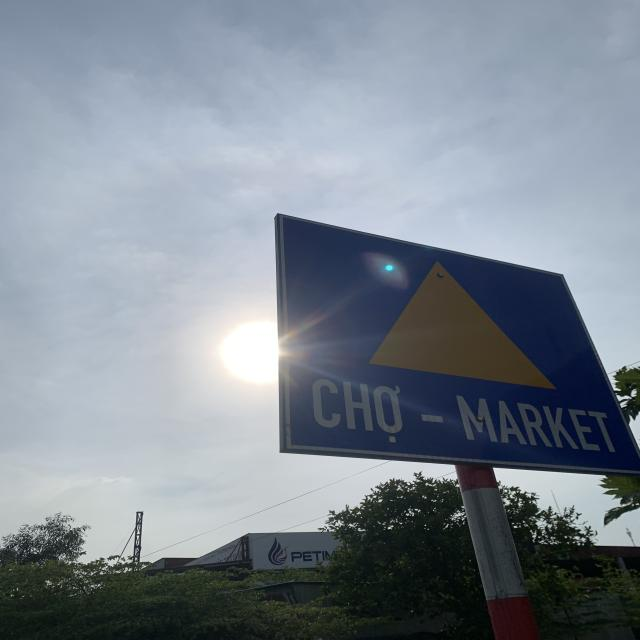Cho_Quay_Xe: (279, 216, 640, 470)
